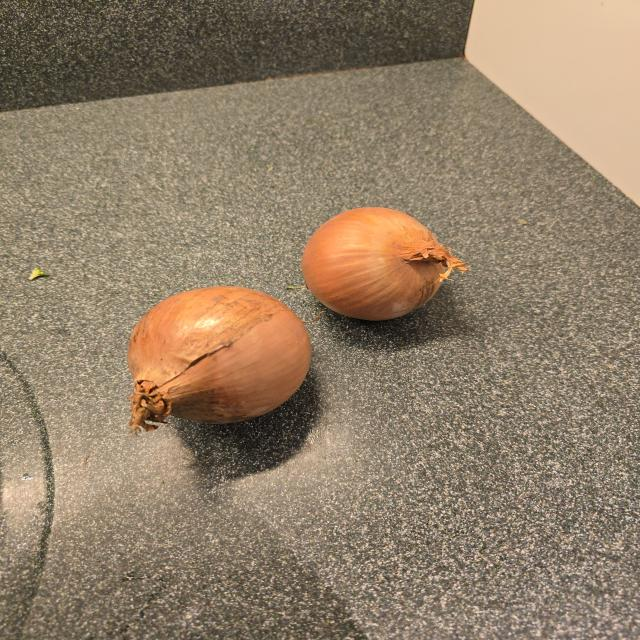Onion: (128, 287, 311, 432), (301, 208, 467, 321)
